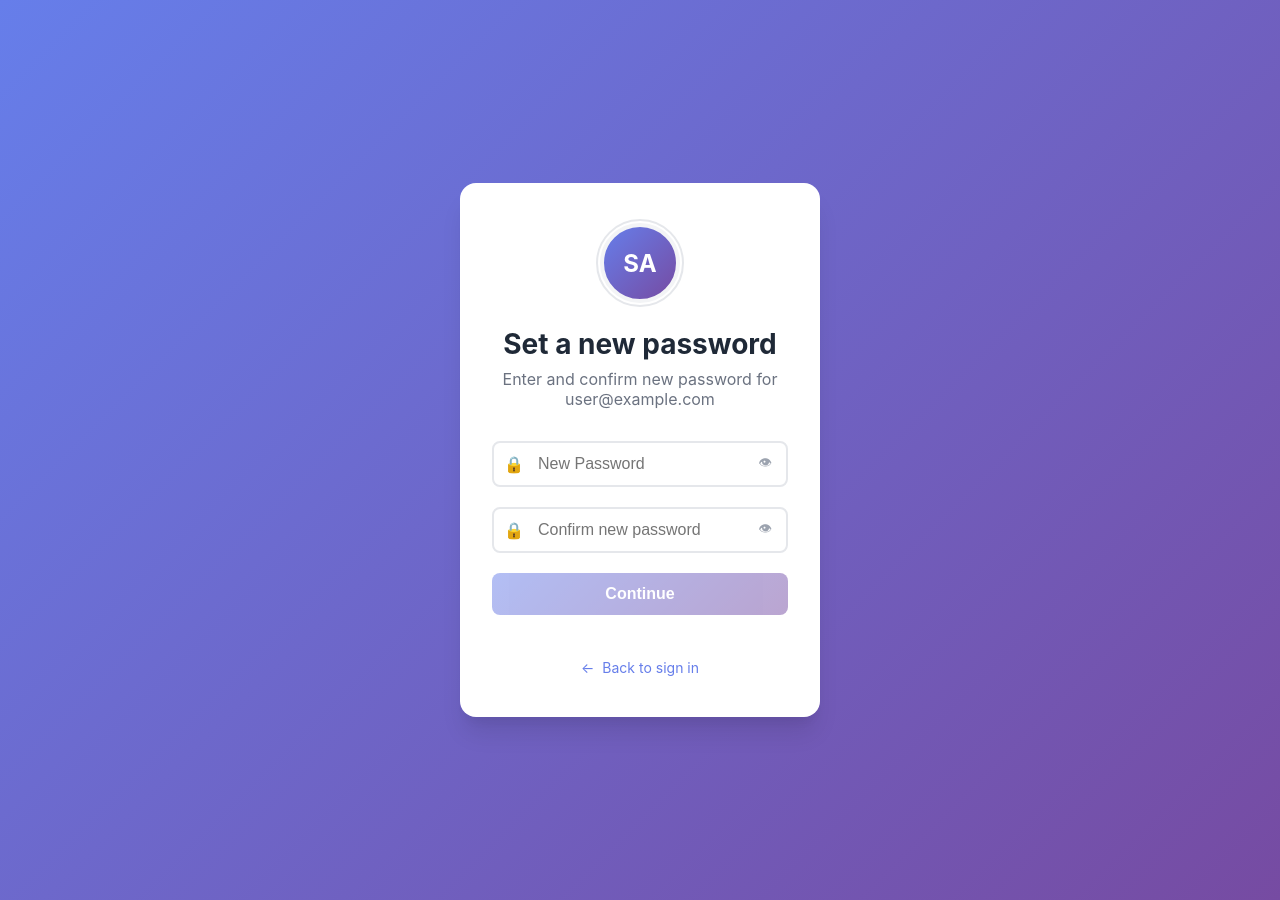
Test: ResetPassword Component › handles expired link error from API
In the password field with placeholder "New Password": (640, 464) [492,441,788,487], type "ValidPass123!"
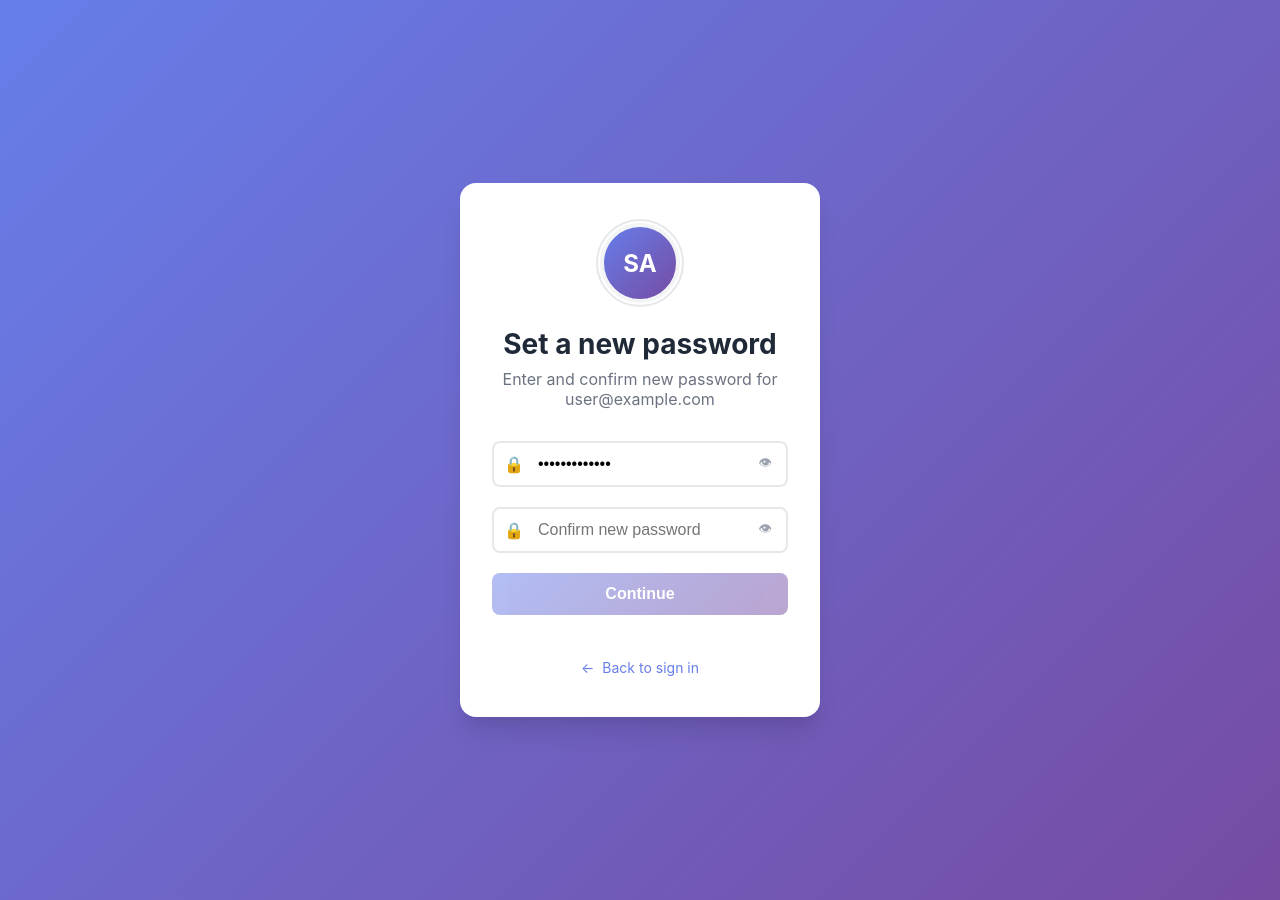
In the password field with placeholder "Confirm new password": (640, 530) [492,507,788,553], type "ValidPass123!"
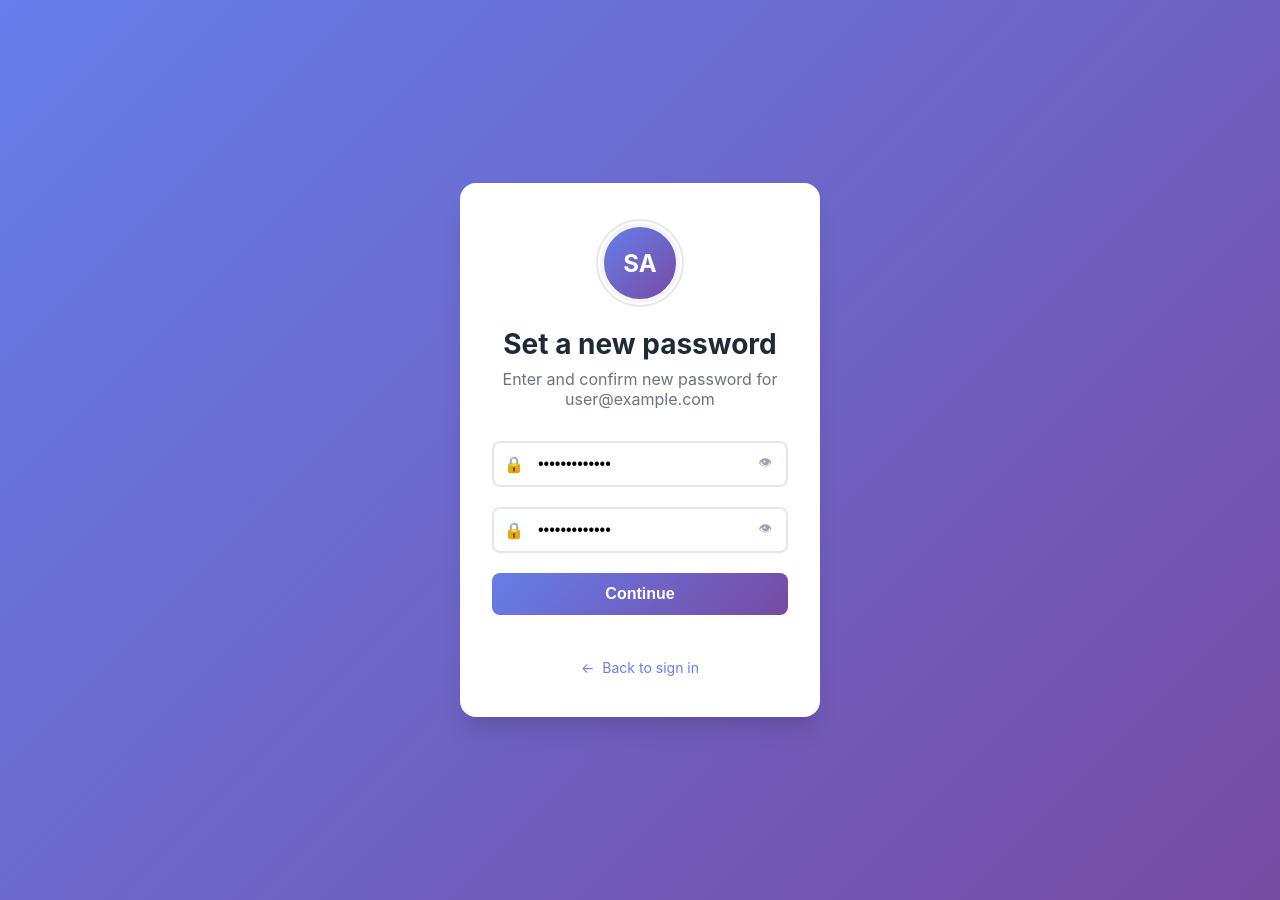
Click the button "Continue": (640, 594) [492,573,788,615]
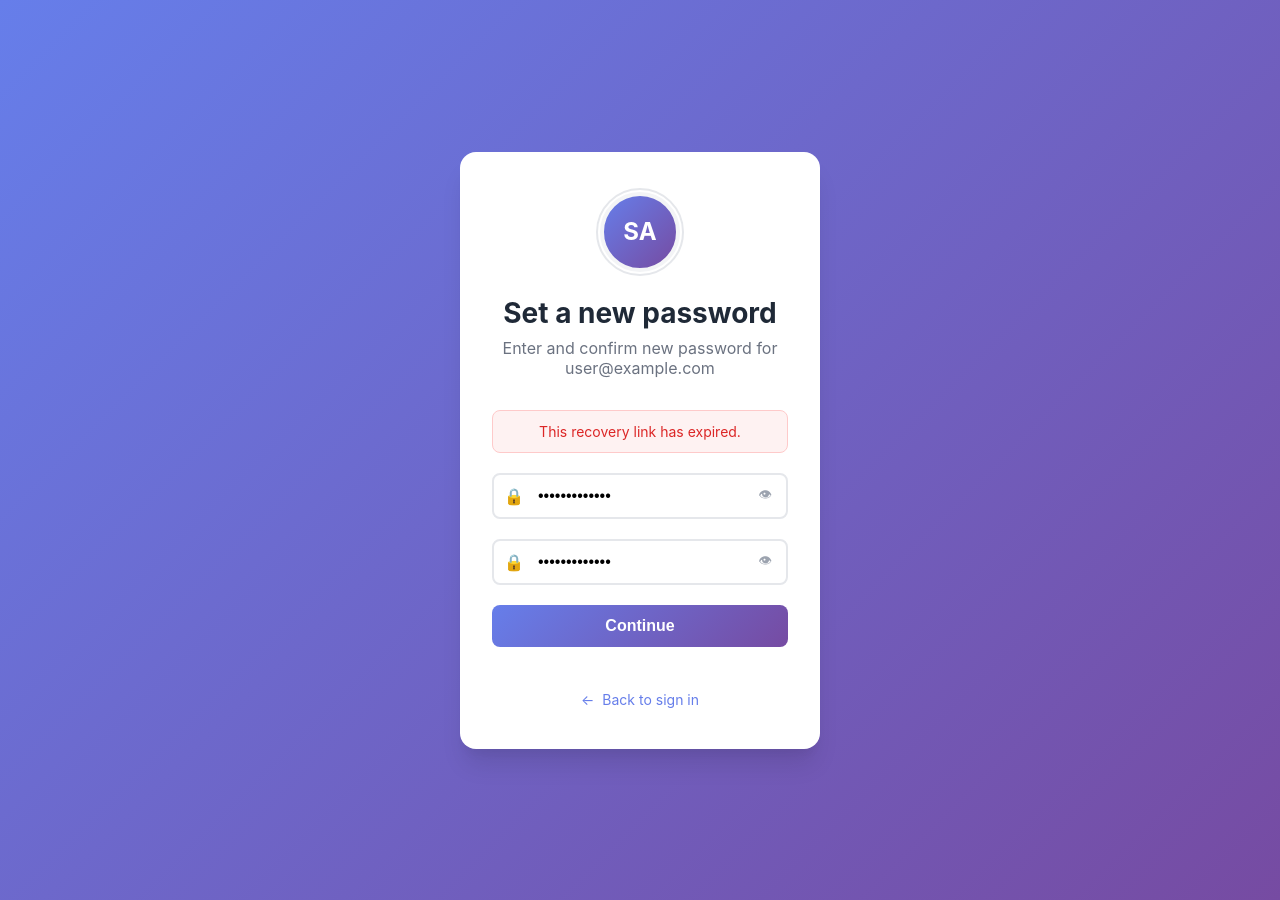
Expected: the text "This recovery link has expired." is shown, [492,410,788,452]
